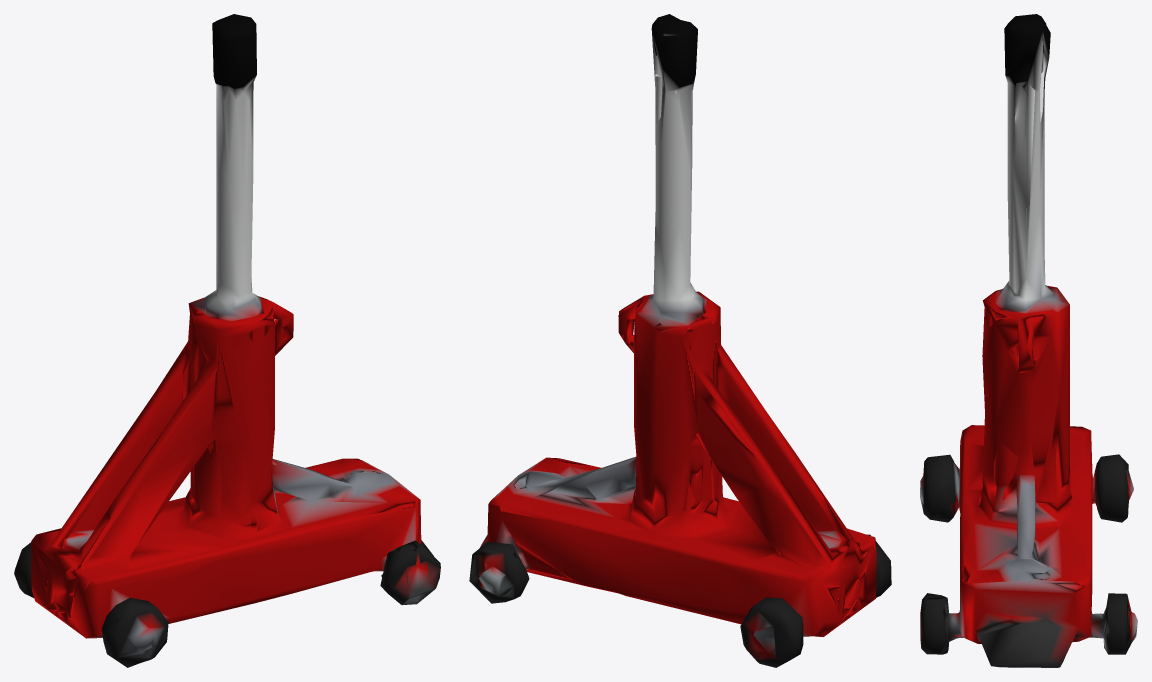
The model's file is gen3d-car-jack-lod0.glb.
3 renders of one model, left to right at view 1: azimuth 30°, elevation 25°; view 2: azimuth 150°, elevation 25°; view 3: azimuth 270°, elevation 25°, orthographic.
Parts seen in each view (by area): view 1: part_0; view 2: part_0; view 3: part_0.
Part boxes in pixels (x1,y1,x2,y2): part_0: [14, 14, 440, 667]; part_0: [469, 14, 891, 667]; part_0: [920, 14, 1137, 667].
Size of the model in its own units: 0.651 by 0.995 by 0.344.
